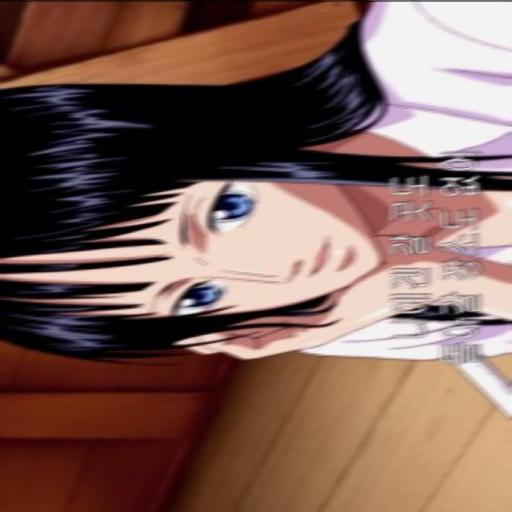NicoRobin: (0, 57, 397, 358)
